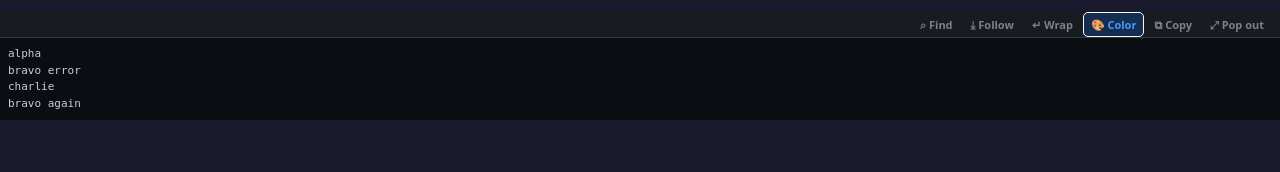
RunOutputView find › reports the match count for the query
Click the button with test id "run-output-btn-find": click(936, 24) 912,12 -> 961,37
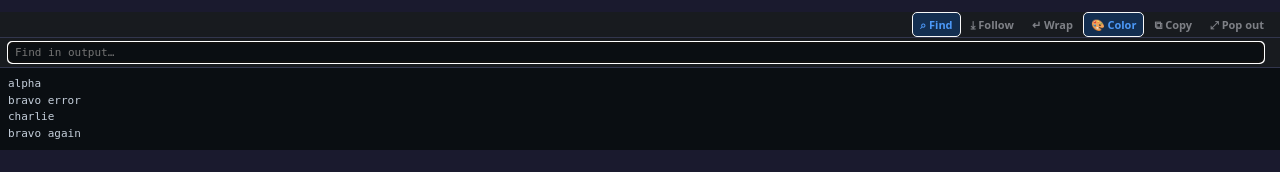
In the field with test id "run-output-find-input": (636, 52) 8,42 -> 1264,63, type "bravo"
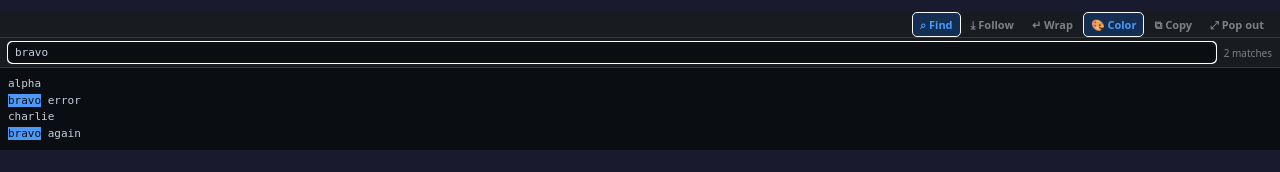
Result: the text with test id "run-output-find-count" shows "2" at 1224,46 -> 1272,60
